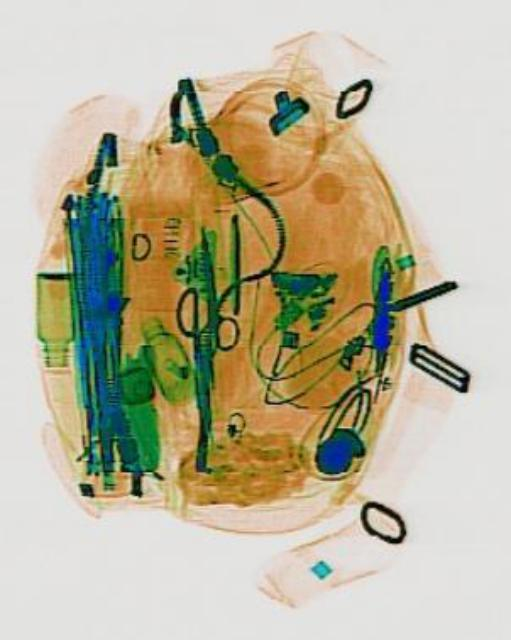Scissors: (164, 284, 238, 472)
